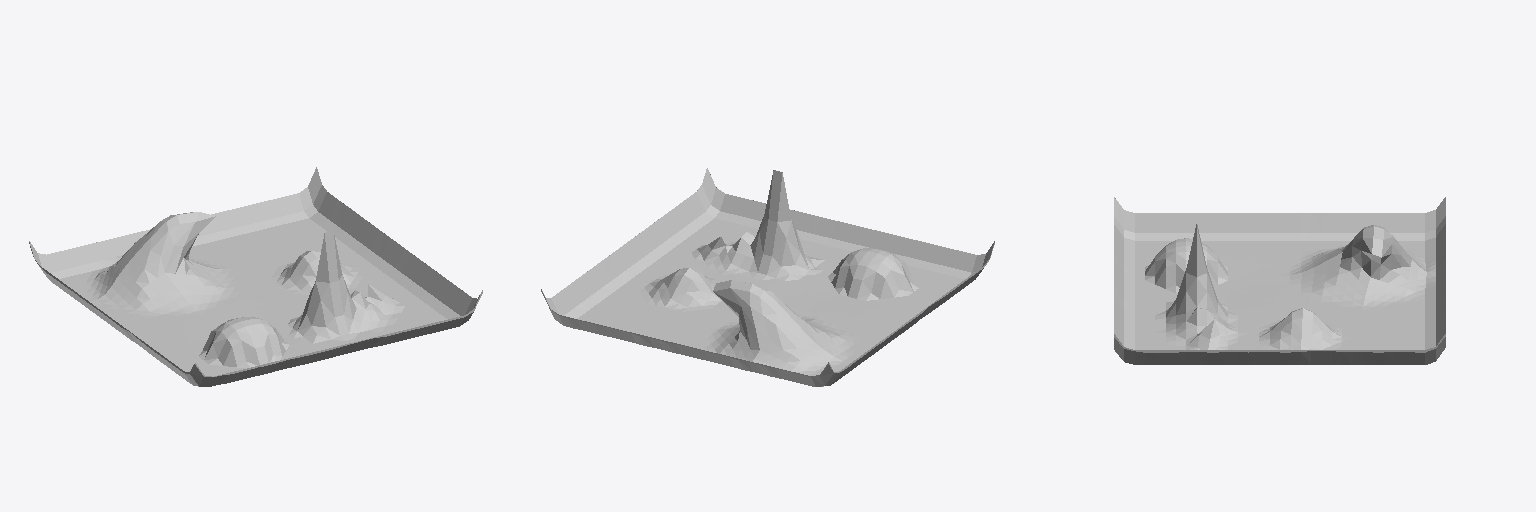
The model's file is map1.obj.
The picture shows the model from 3 angles: view 1: azimuth 30°, elevation 25°; view 2: azimuth 150°, elevation 25°; view 3: azimuth 270°, elevation 25°; orthographic projection.
Visible parts, largest first — view 1: Cube; view 2: Cube; view 3: Cube.
Part boxes in pixels (left/top/right/bottom): Cube: left=29, top=167, right=482, bottom=386; Cube: left=541, top=168, right=994, bottom=386; Cube: left=1114, top=197, right=1445, bottom=364.
Bounding box in the file's own units: 382 × 119 × 382.